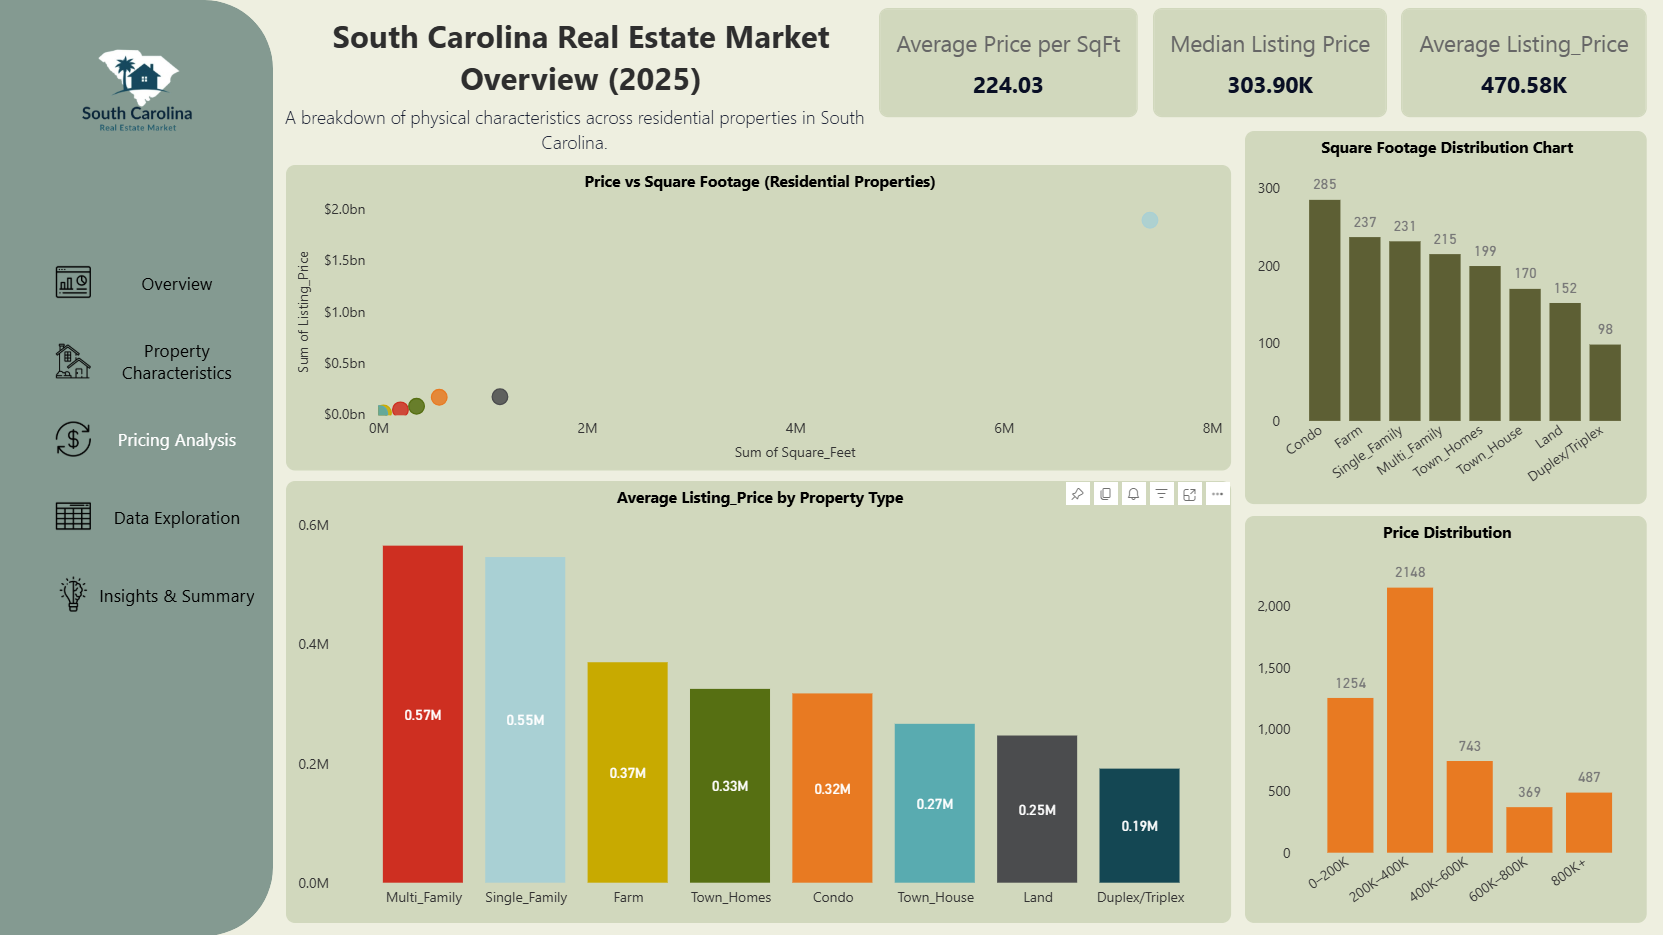

Layout of this report page (visuals, bound fields, positions):
{"tool":"powerbi","page":{"name":"Pricing Analysis","canvas":[1280,720],"ordinal":2},"visuals":[{"type":"shape","box":[0,0,210,720],"z":0},{"type":"pageNavigator","box":[74.3,192.1,123.6,291.4],"z":1000},{"type":"image","box":[37,438.6,39.3,37.1],"z":2000},{"type":"image","box":[37,259.3,39.3,37.1],"z":3000},{"type":"image","box":[37,378.6,39.3,37.1],"z":4000},{"type":"image","box":[37,198.6,39.3,37.1],"z":5000},{"type":"image","box":[37,319.3,39.3,37.1],"z":6000},{"type":"image","box":[0,0,210,141.4],"z":7000},{"type":"cardVisual","fields":{"Data":["realestate_data_southcarolina_2025.Average Listing_Price"]},"box":[1078,6,189,84],"z":8000},{"type":"cardVisual","fields":{"Data":["realestate_data_southcarolina_2025.Median Listing Price"]},"box":[887,6,180,84],"z":9000},{"type":"cardVisual","fields":{"Data":["realestate_data_southcarolina_2025.Average Price per SqFt"]},"box":[676,6,199,84],"z":10000},{"type":"columnChart","title":"Average Listing_Price by Property Type","fields":{"Series":["realestate_data_southcarolina_2025.Property_Type"],"Category":["realestate_data_southcarolina_2025.Property_Type"],"Y":["realestate_data_southcarolina_2025.Average Listing_Price"]},"box":[220,370,727.3,340],"z":11000},{"type":"columnChart","title":"Square Footage Distribution Chart","fields":{"Category":["realestate_data_southcarolina_2025.Property_Type"],"Y":["realestate_data_southcarolina_2025.Average Price per SqFt"]},"box":[958,101,309,287],"z":12000},{"type":"textbox","box":[220,6,454,84],"z":13000},{"type":"columnChart","title":"Price Distribution","fields":{"Category":["realestate_data_southcarolina_2025.Price_Bin"],"Y":["CountNonNull(realestate_data_southcarolina_2025.Price_Bin)"]},"box":[958,397,309,313],"z":14000},{"type":"scatterChart","title":"Price vs Square Footage (Residential Properties)","fields":{"X":["Sum(realestate_data_southcarolina_2025.Square_Feet)"],"Y":["Sum(realestate_data_southcarolina_2025.Listing_Price)"],"Series":["realestate_data_southcarolina_2025.Property_Type"]},"box":[220,127.3,727.3,234.5],"z":15000},{"type":"textbox","box":[210,75,464,50],"z":16000}]}

Visuals, with their boxes in screenshot pixels (x1, y1, x2, y2), scaled from the page's 1280x720 canvas onto the 1663x935 screenshot:
shape: locate(0, 0, 273, 934)
pageNavigator: locate(97, 249, 257, 628)
image: locate(48, 570, 99, 618)
image: locate(48, 337, 99, 385)
image: locate(48, 492, 99, 540)
image: locate(48, 258, 99, 306)
image: locate(48, 415, 99, 463)
image: locate(0, 0, 273, 184)
cardVisual - realestate_data_southcarolina_2025.Average Listing_Price: locate(1401, 8, 1646, 117)
cardVisual - realestate_data_southcarolina_2025.Median Listing Price: locate(1152, 8, 1386, 117)
cardVisual - realestate_data_southcarolina_2025.Average Price per SqFt: locate(878, 8, 1137, 117)
"Average Listing_Price by Property Type" columnChart: locate(286, 480, 1231, 922)
"Square Footage Distribution Chart" columnChart: locate(1245, 131, 1646, 504)
textbox: locate(286, 8, 876, 117)
"Price Distribution" columnChart: locate(1245, 516, 1646, 922)
"Price vs Square Footage (Residential Properties)" scatterChart: locate(286, 165, 1231, 470)
textbox: locate(273, 97, 876, 162)
